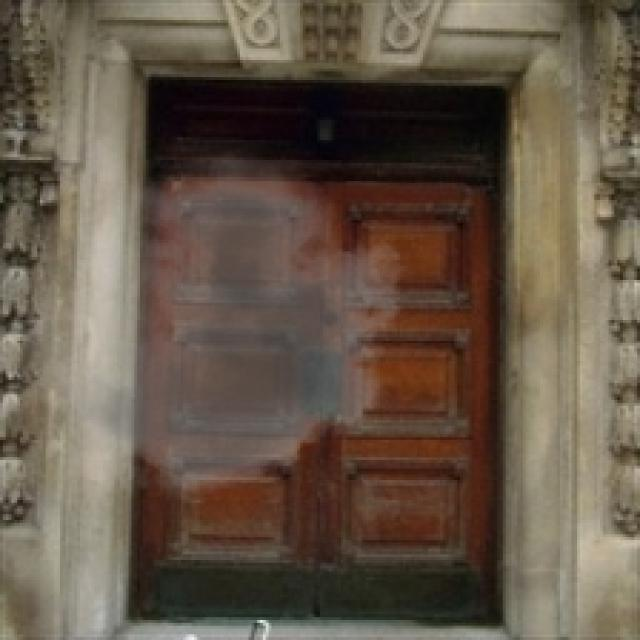Smoke: (6, 152, 423, 512)
